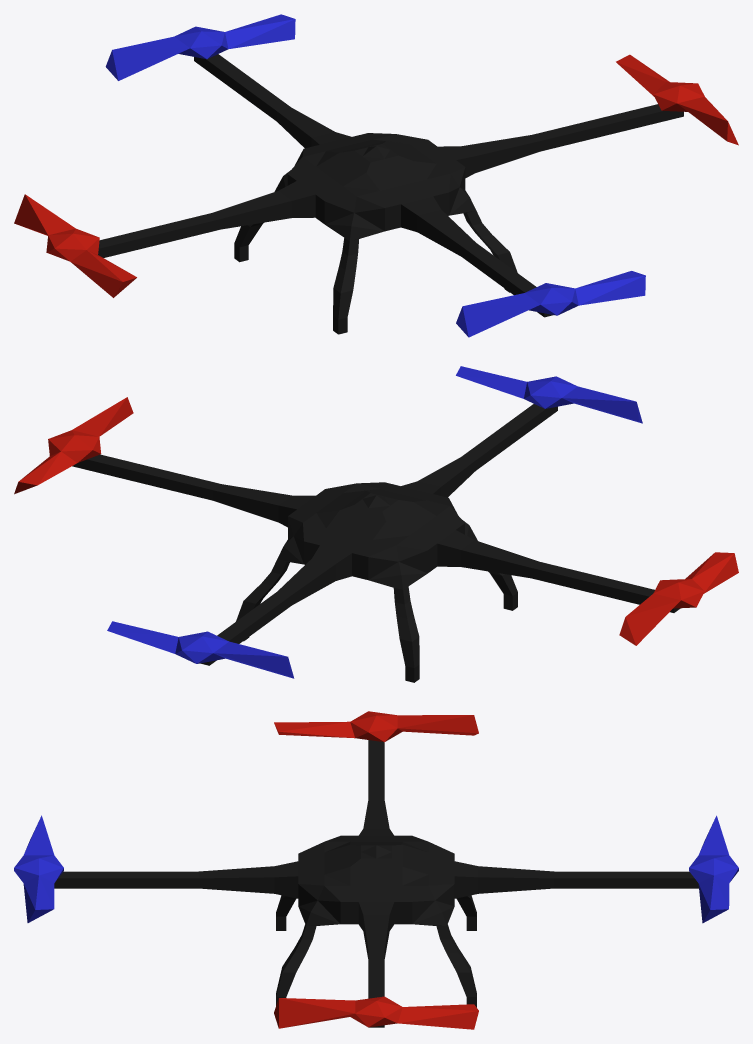
The model's file is copter.dae.
3 views of the same model, one above another, from view 1: azimuth 30°, elevation 25°; view 2: azimuth 150°, elevation 25°; view 3: azimuth 270°, elevation 25° (orthographic). The views are drawn at different scales.
Visible parts, largest first — view 1: Cube, Icosphere.003, Icosphere.002; view 2: Cube, Icosphere.003, Icosphere.002; view 3: Cube, Icosphere.002, Icosphere.003.
Boxes of the visible parts, x1=… form: Cube: x1=98, y1=54, x2=683, y2=334; Icosphere.003: x1=105, y1=14, x2=645, y2=337; Icosphere.002: x1=14, y1=54, x2=738, y2=297; Cube: x1=72, y1=404, x2=680, y2=682; Icosphere.003: x1=107, y1=366, x2=642, y2=678; Icosphere.002: x1=14, y1=397, x2=738, y2=645; Cube: x1=54, y1=740, x2=698, y2=1027; Icosphere.002: x1=274, y1=711, x2=478, y2=1029; Icosphere.003: x1=14, y1=815, x2=738, y2=923.
Bounding box in the file's own units: 2.46 × 2.46 × 0.4639.
